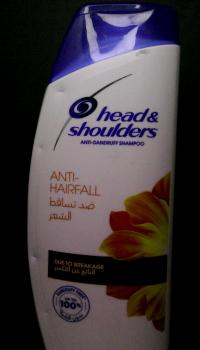dent_marginal: (135, 48, 153, 59), (54, 86, 68, 98), (36, 144, 50, 155), (40, 307, 51, 319), (30, 253, 44, 262)
